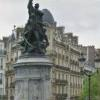Statue: (12, 3, 86, 60)
